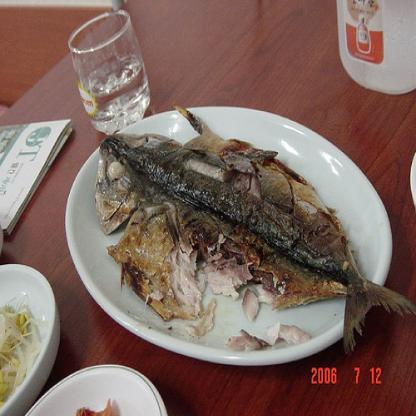Peixe: (80, 103, 402, 354)
